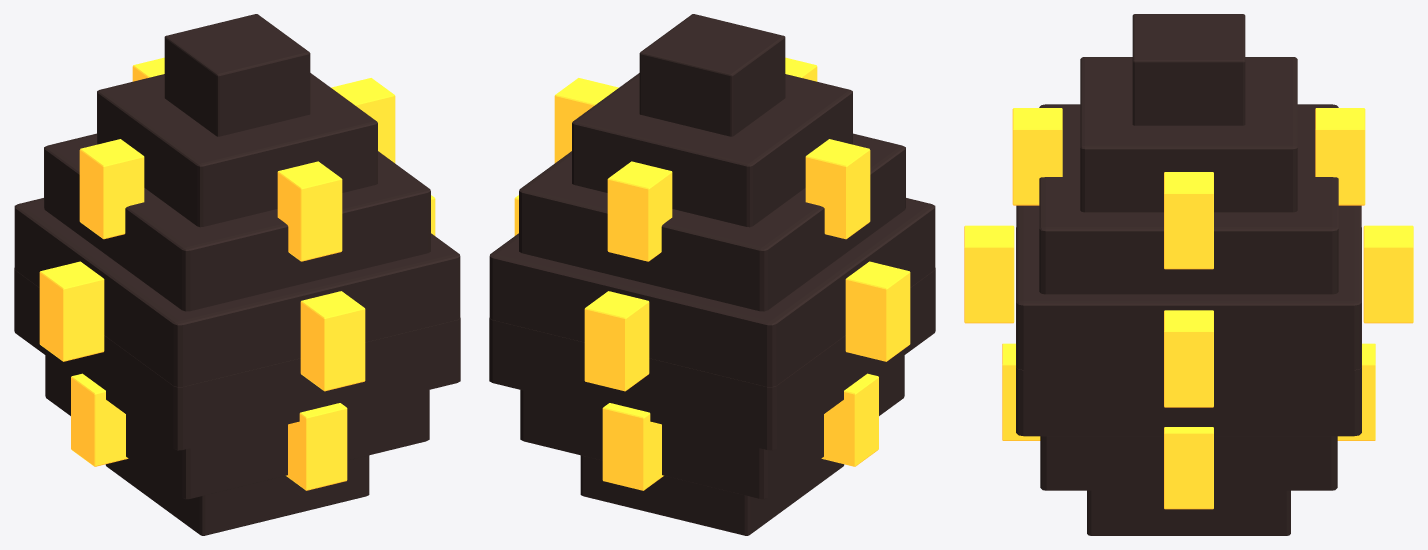
File: egg-volcano.glb
The picture shows the model from 3 angles, left to right: view 1: azimuth 30°, elevation 25°; view 2: azimuth 150°, elevation 25°; view 3: azimuth 270°, elevation 25°; orthographic projection. The views are drawn at different scales.
Parts seen in each view (by area): view 1: body; view 2: body; view 3: body.
Part boxes in pixels (<box>): body: <box>14,14,460,535</box>; body: <box>489,14,935,535</box>; body: <box>964,14,1413,535</box>.
Bounding box in the file's own units: 0.8916 × 1 × 0.8916.
